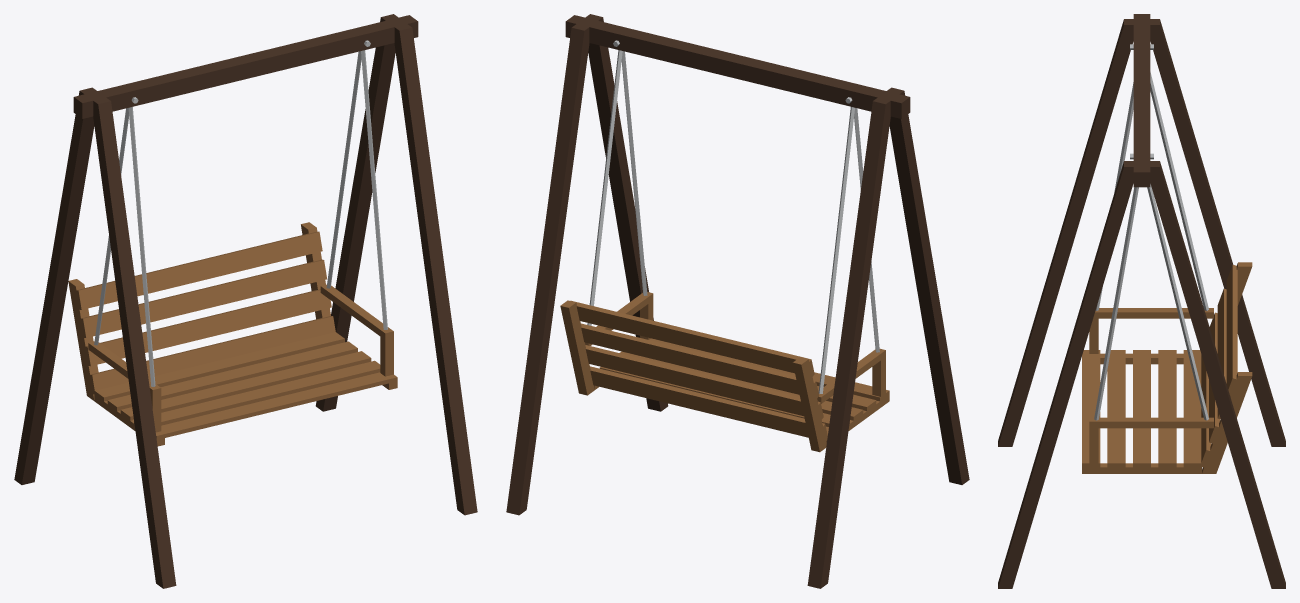
The model's file is FN_Swing_Garden.obj.
3 views of the same model, side by side, from view 1: azimuth 30°, elevation 25°; view 2: azimuth 150°, elevation 25°; view 3: azimuth 270°, elevation 25° (orthographic). The views are drawn at different scales.
Parts seen in each view (by area): view 1: FN_Swing_Garden; view 2: FN_Swing_Garden; view 3: FN_Swing_Garden.
Part boxes in pixels (bbox=[...]): FN_Swing_Garden: bbox=[14, 14, 477, 588]; FN_Swing_Garden: bbox=[506, 14, 969, 588]; FN_Swing_Garden: bbox=[998, 14, 1285, 588].
Size of the model in its own units: 1.56 by 1.94 by 1.2.
1 material, 1 textured.
